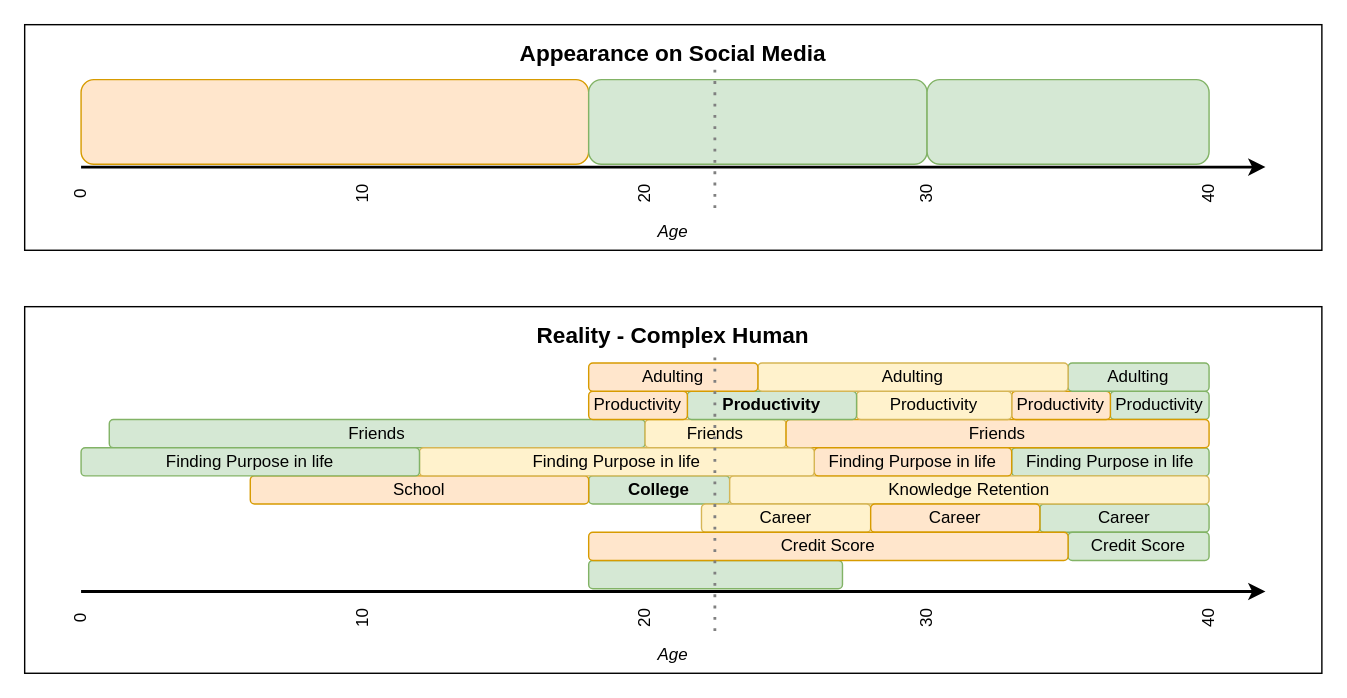
Image size: 1347x698. Some labels were removed from this diagram. The centre of each missing label's shape, as x and y in pixels:
"Great Success!" belongs at (x=1067, y=121).
"Just a child" belongs at (x=334, y=121).
"Success" belongs at (x=757, y=121).
"Tiktok / Instagram Prowess" belongs at (x=714, y=574).
